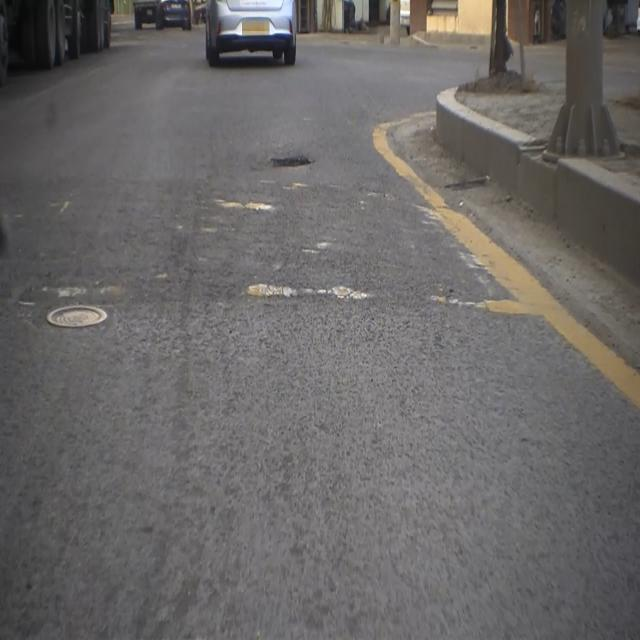Buraco: (262, 154, 318, 170)
